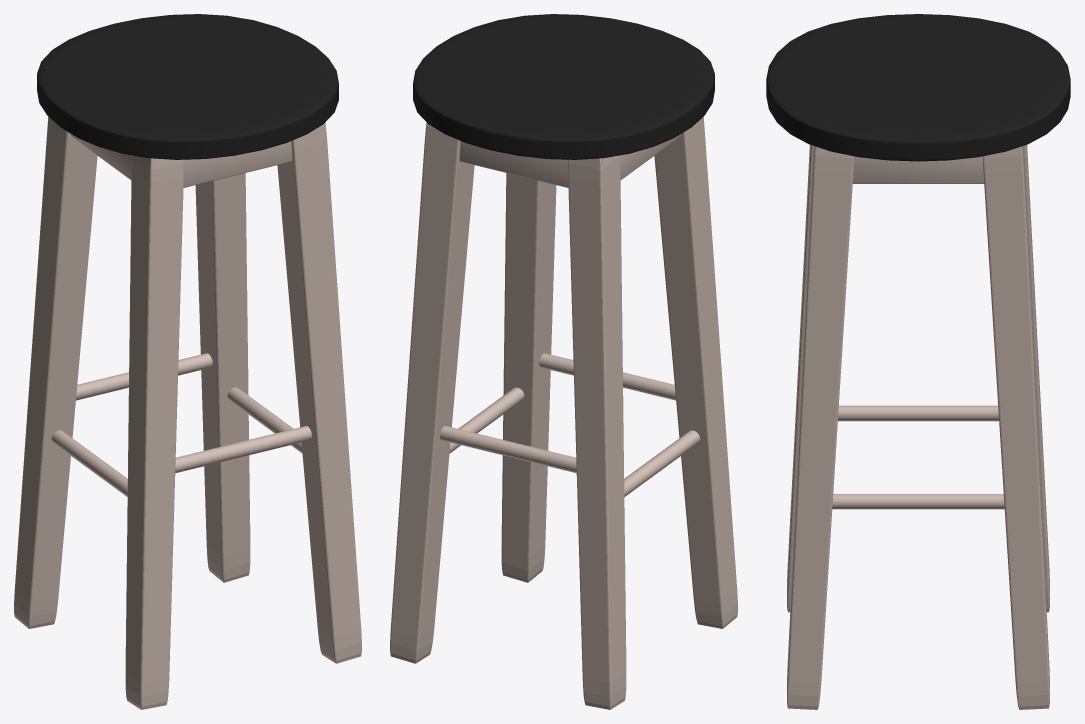
File: Stool Menu.fbx
3 renders of one model, left to right at view 1: azimuth 30°, elevation 25°; view 2: azimuth 150°, elevation 25°; view 3: azimuth 270°, elevation 25°, orthographic. The views are drawn at different scales.
Visible parts, largest first — view 1: Stool Legs, Stool Seat; view 2: Stool Legs, Stool Seat; view 3: Stool Legs, Stool Seat.
Boxes of the visible parts, x1,y1,x2,y2 form: Stool Legs: (14,117,361,709); Stool Seat: (37,14,338,159); Stool Legs: (390,117,737,709); Stool Seat: (413,14,714,159); Stool Legs: (787,144,1049,709); Stool Seat: (766,14,1070,161).
Bounding box in the file's own units: 183 × 385 × 183.
